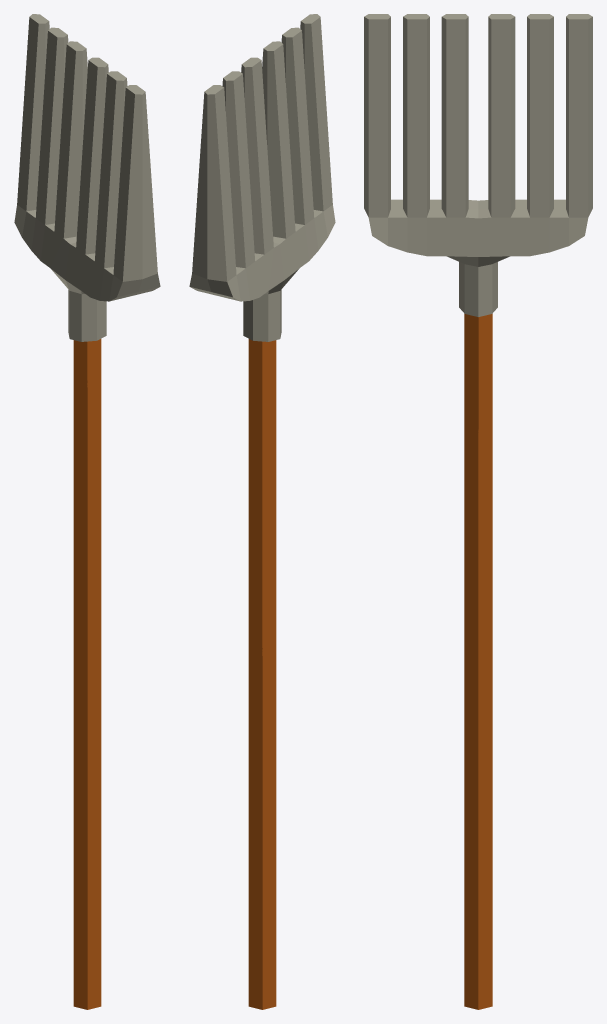
The model's file is spading_fork.fbx.
3 views of the same model, side by side, from view 1: azimuth 30°, elevation 25°; view 2: azimuth 150°, elevation 25°; view 3: azimuth 270°, elevation 25° (orthographic). The views are drawn at different scales.
Visible parts, largest first — view 1: spading fork; view 2: spading fork; view 3: spading fork.
Boxes of the visible parts, x1,y1,x2,y2 form: spading fork: (14, 14, 160, 1009); spading fork: (189, 14, 335, 1009); spading fork: (364, 14, 592, 1009).
Size of the model in its own units: 14.15 by 294 by 61.79.
